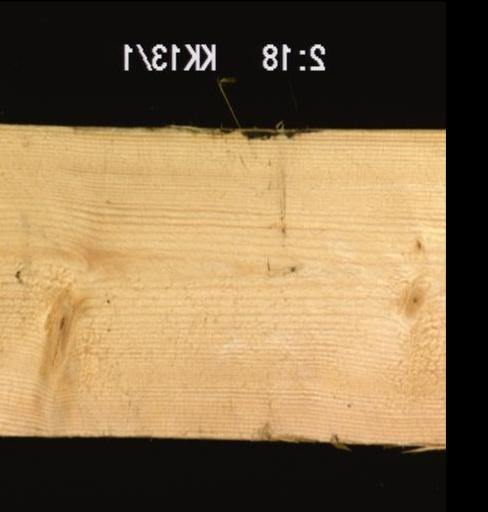small_knot: (403, 228, 432, 255)
sound_knot: (398, 273, 433, 325)
